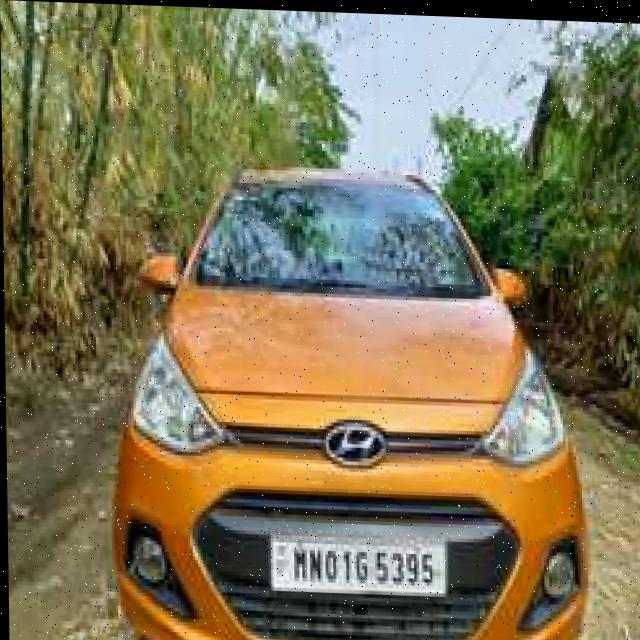plate: (268, 531, 446, 595)
